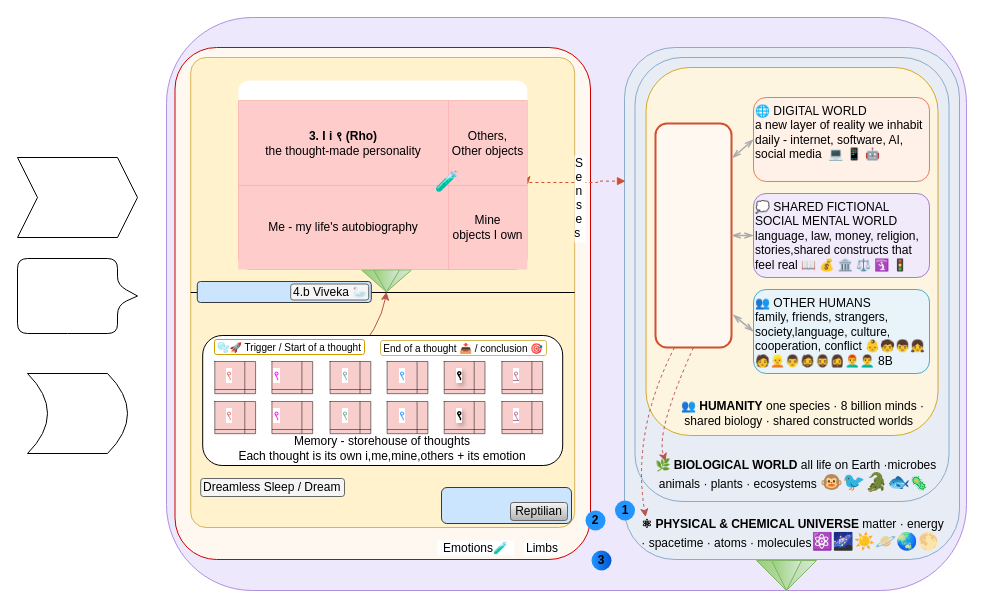
Image size: 984x608. Some labels were removed from this diagram. The box of each missing label's shape, as (x1, y1, x2, y2) in pixels:
1. Memory / Storehouse / Unconscious: (190, 56, 575, 528)
2. Thought — snapshot of Thinking: (238, 80, 527, 269)
4. Discernment: (196, 280, 371, 302)
Everything - Whole · That · Cannot be named: (166, 16, 966, 590)
Mammalian Instincts: (440, 486, 572, 524)
🦴🫀🫁 BODY: (174, 46, 590, 560)
🧑 THE PERSON you · me · the individual with separate body mind 🦴🫀🫁🧠: (654, 122, 732, 348)
